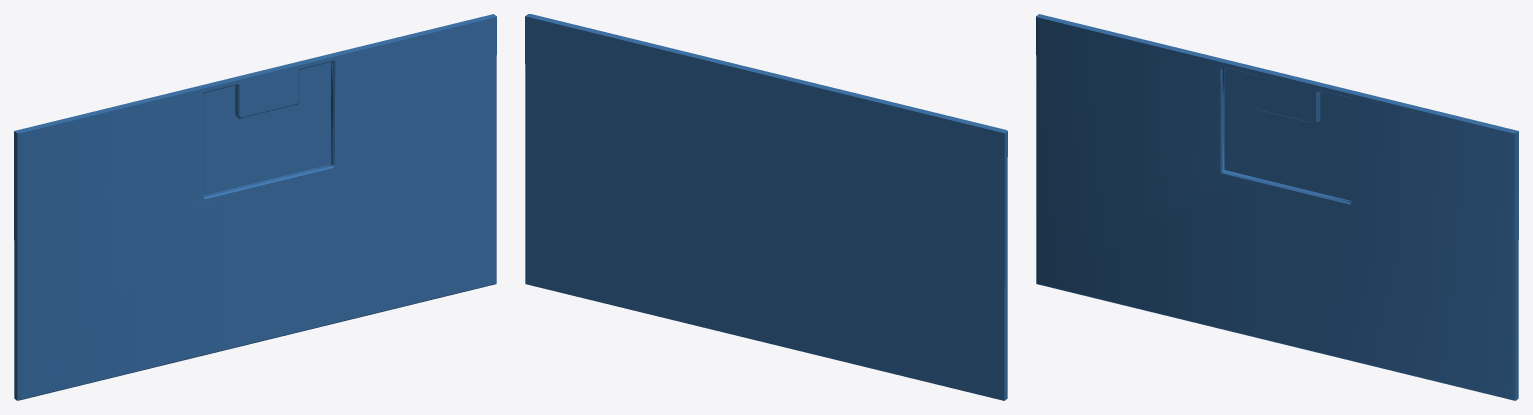
Rendered from Bigsides_box (2).fbx.
The picture shows the model from 3 angles, left to right: view 1: azimuth 30°, elevation 25°; view 2: azimuth 150°, elevation 25°; view 3: azimuth 330°, elevation 25°; orthographic projection.
Parts seen in each view (by area): view 1: Bigsides_box; view 2: Bigsides_box; view 3: Bigsides_box.
Part boxes in pixels (left/top/right/bottom): Bigsides_box: left=14, top=14, right=496, bottom=400; Bigsides_box: left=525, top=14, right=1007, bottom=400; Bigsides_box: left=1036, top=14, right=1518, bottom=400.
Bounding box in the file's own units: 2113 × 1127 × 30.22.
